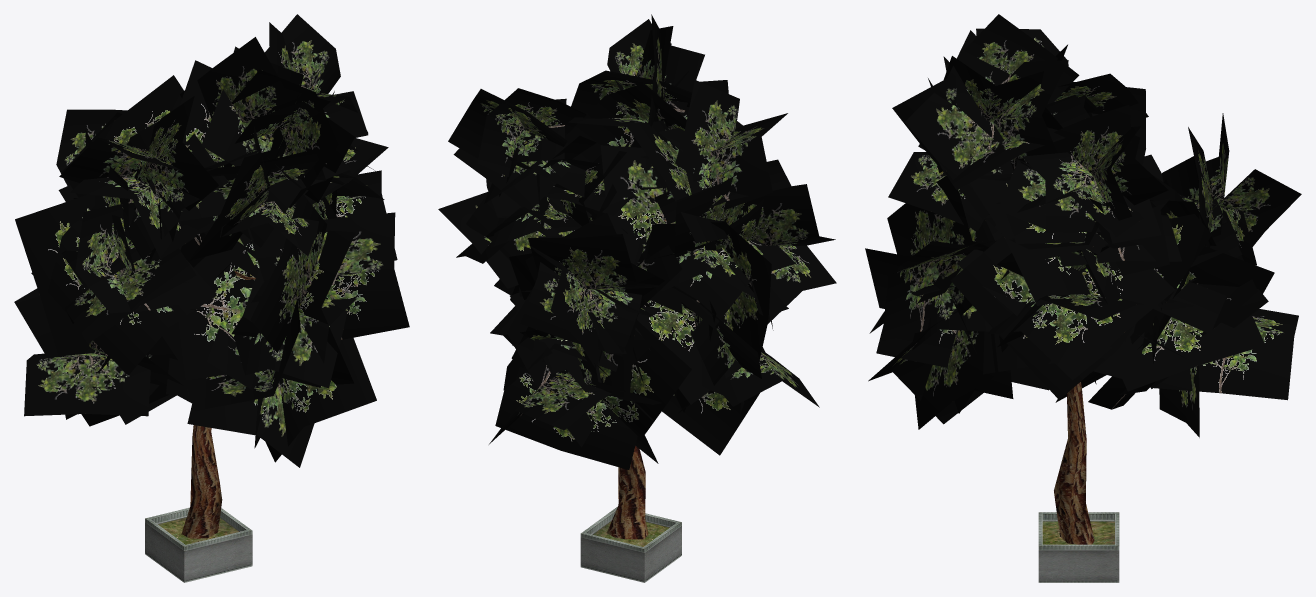
File: UDC_Tree.obj
The picture shows the model from 3 angles, left to right: view 1: azimuth 30°, elevation 25°; view 2: azimuth 150°, elevation 25°; view 3: azimuth 270°, elevation 25°; orthographic projection. The views are drawn at different scales.
Parts seen in each view (by area): view 1: UDC_Tree; view 2: UDC_Tree; view 3: UDC_Tree.
Part boxes in pixels (bbox=[...]): UDC_Tree: bbox=[14, 14, 409, 582]; UDC_Tree: bbox=[438, 14, 836, 582]; UDC_Tree: bbox=[865, 14, 1301, 582].
Size of the model in its own units: 2.2 by 3.02 by 2.13.
Materials: 3 (3 with a texture image).
